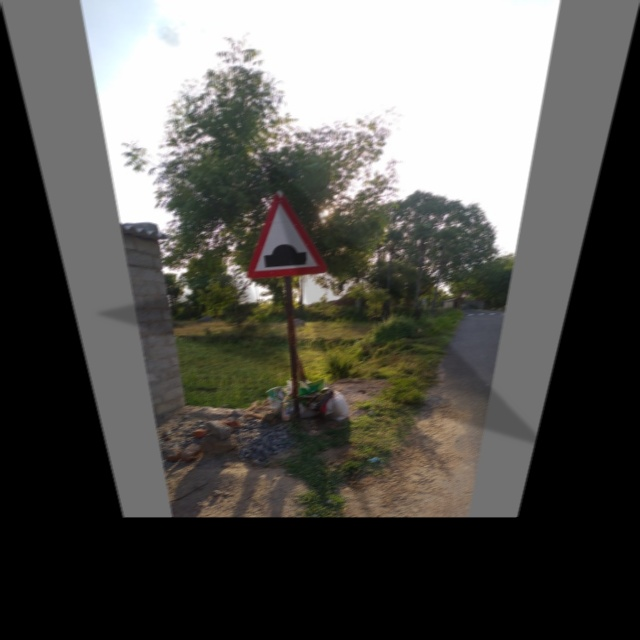Hump_or_Rough_Road: (244, 193, 327, 278)
